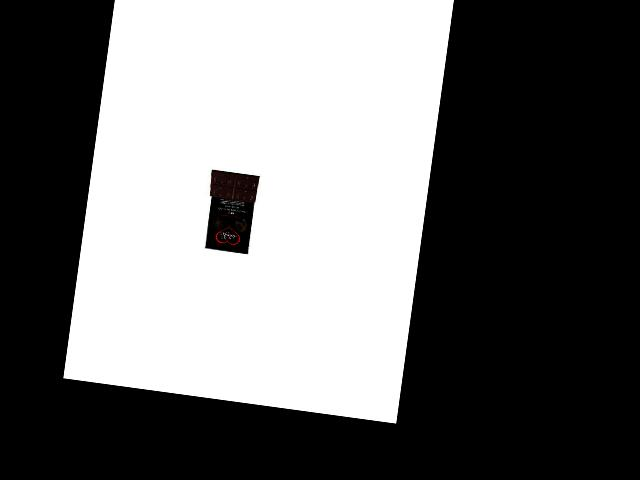chocolate: (197, 165, 261, 255)
